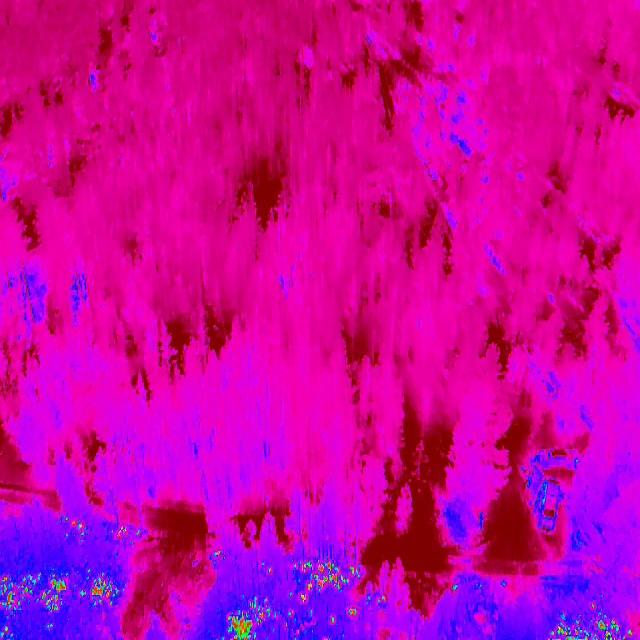fire: (225, 559, 388, 640), (1, 571, 120, 613), (542, 601, 638, 640), (57, 513, 152, 547), (210, 546, 227, 566), (0, 624, 11, 634)
